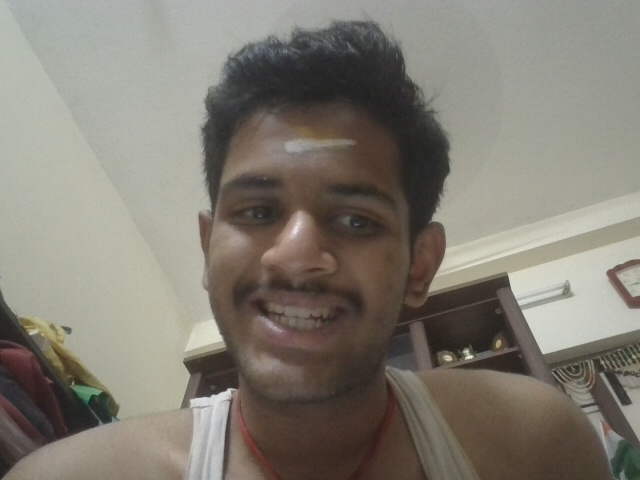real: (165, 107, 434, 376)
